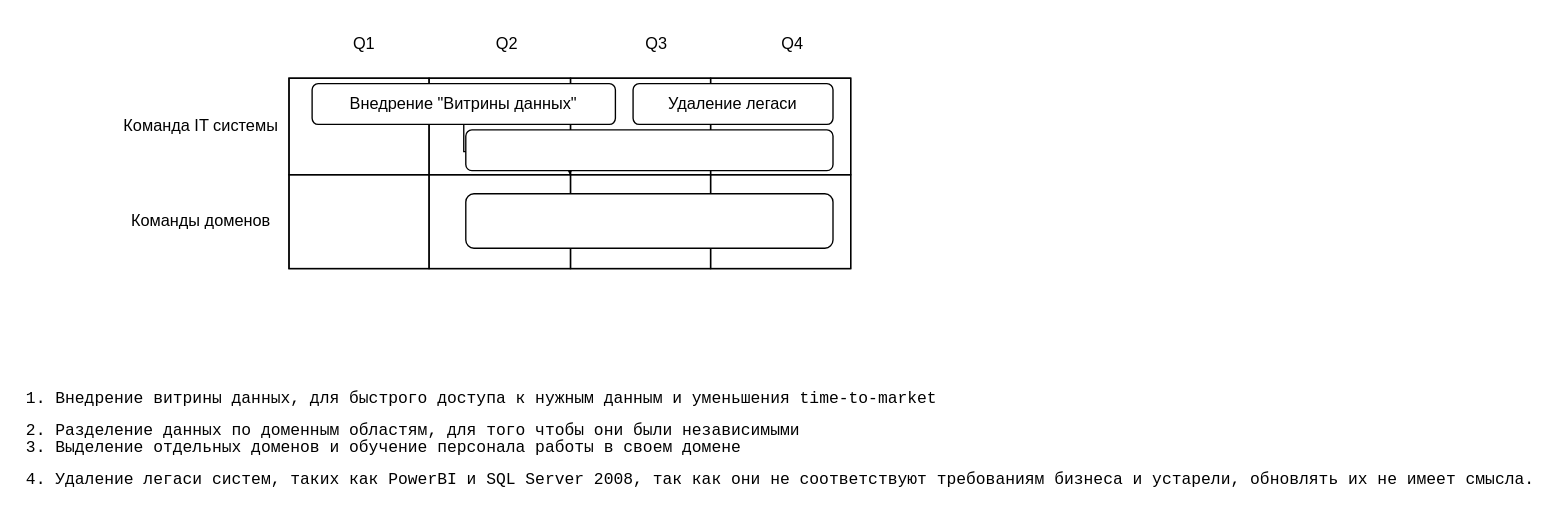
The diagram is 1557 pixels wide and 526 high, and some of its shapes have lost their labels. The box of each missing label's shape, as (x1, y1, x2, y2) in pixels:
Обучение работе с "Витриной данных": (464, 192, 833, 248)
Разделение данных по доменным областям: (464, 129, 833, 171)
